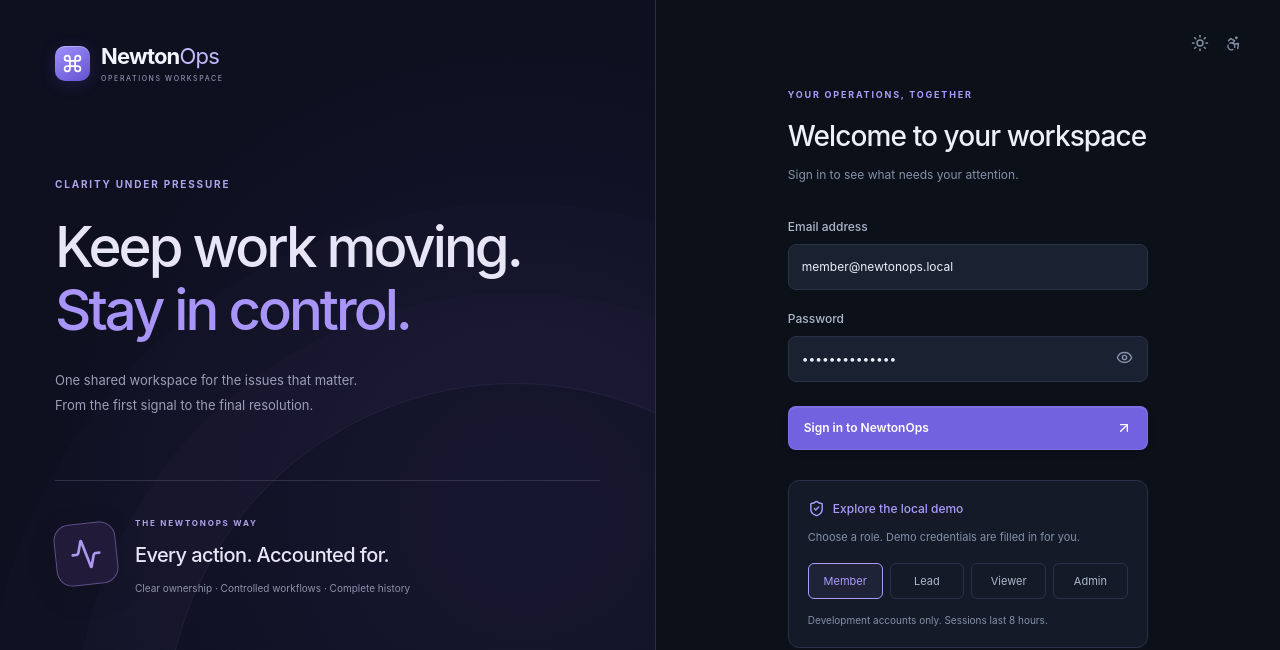
connected workspace › shows a conflict and reconciles only when refresh is requested
The width and height of the screenshot is (1280, 650).
Click the button "Sign in to NewtonOps".
click(866, 427)  # box [788,406,1148,450]
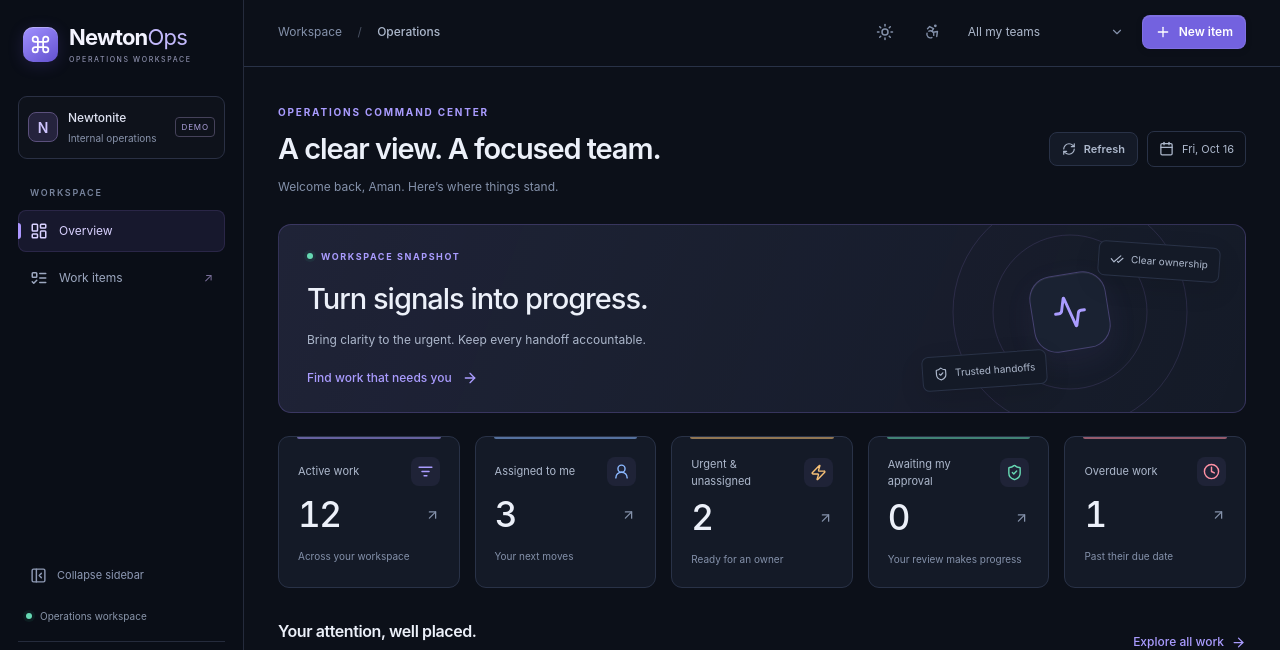
Now the heading "A clear view. A focused team." is shown, box [278,131,660,167]
Click the link "Work items ↗".
click(122, 278)  # box [30,269,213,287]
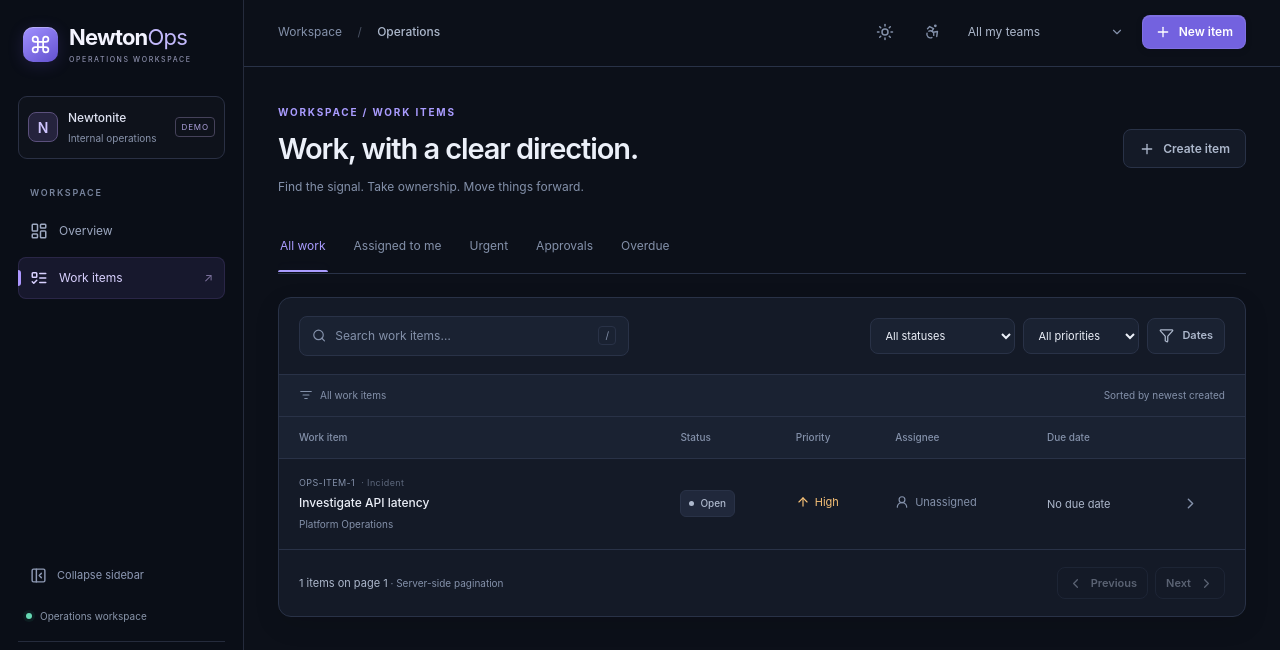
Now the table is shown, box [279,417,1245,550]
Click the link named "Open Investigate API latency".
click(1191, 504)  # box [1182,495,1199,512]
(page scrolled)
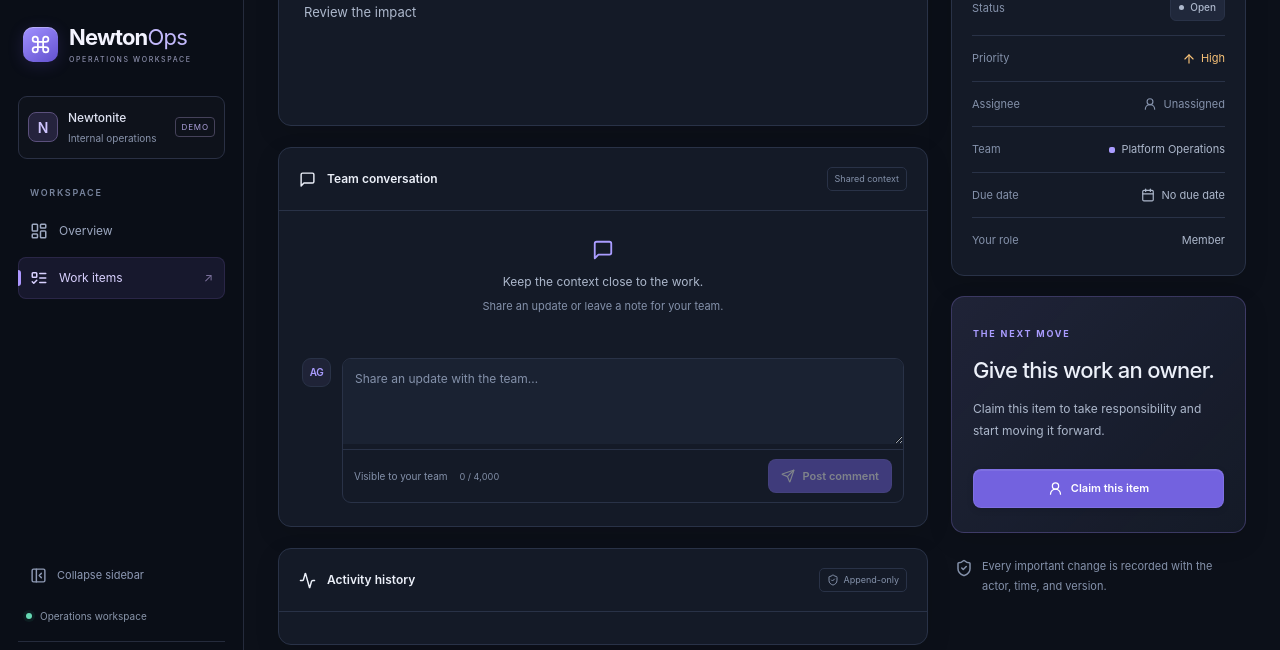
Now the button "Claim this item" is shown
Click the button "Claim this item".
click(1098, 488)  # box [973,469,1224,508]
(page scrolled)
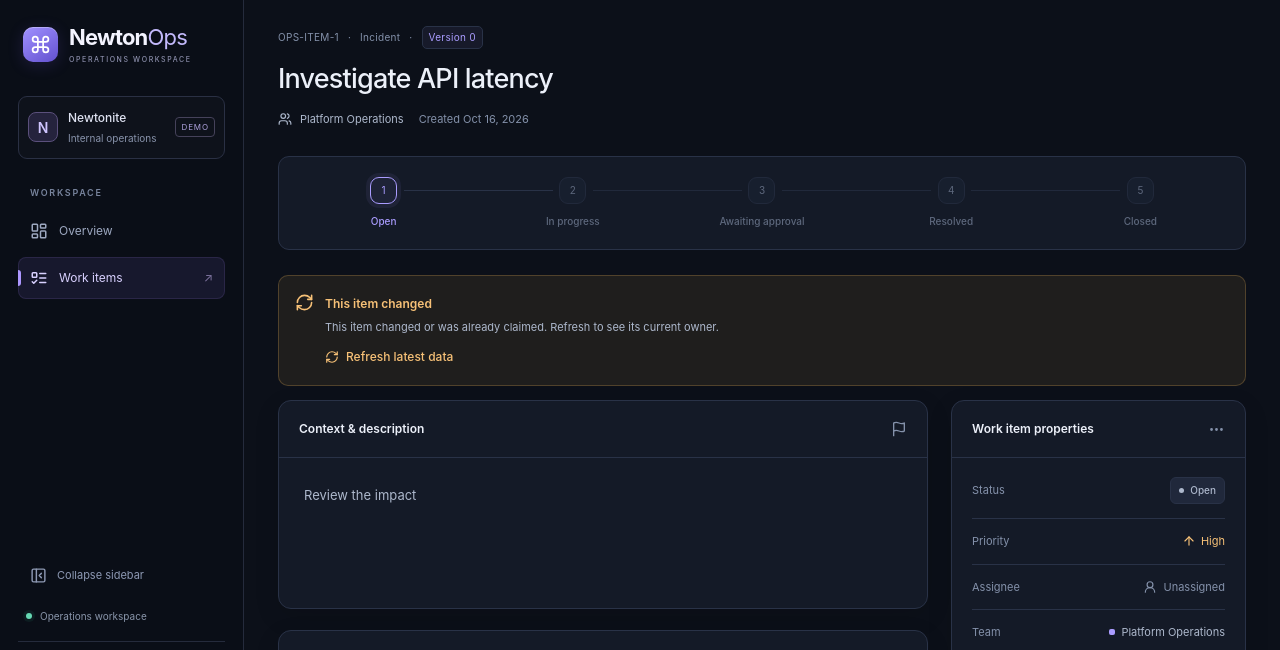
Now the message shows "This item changed", box [325,296,432,311]
Click the button "Refresh latest data".
click(389, 357)  # box [325,348,453,366]
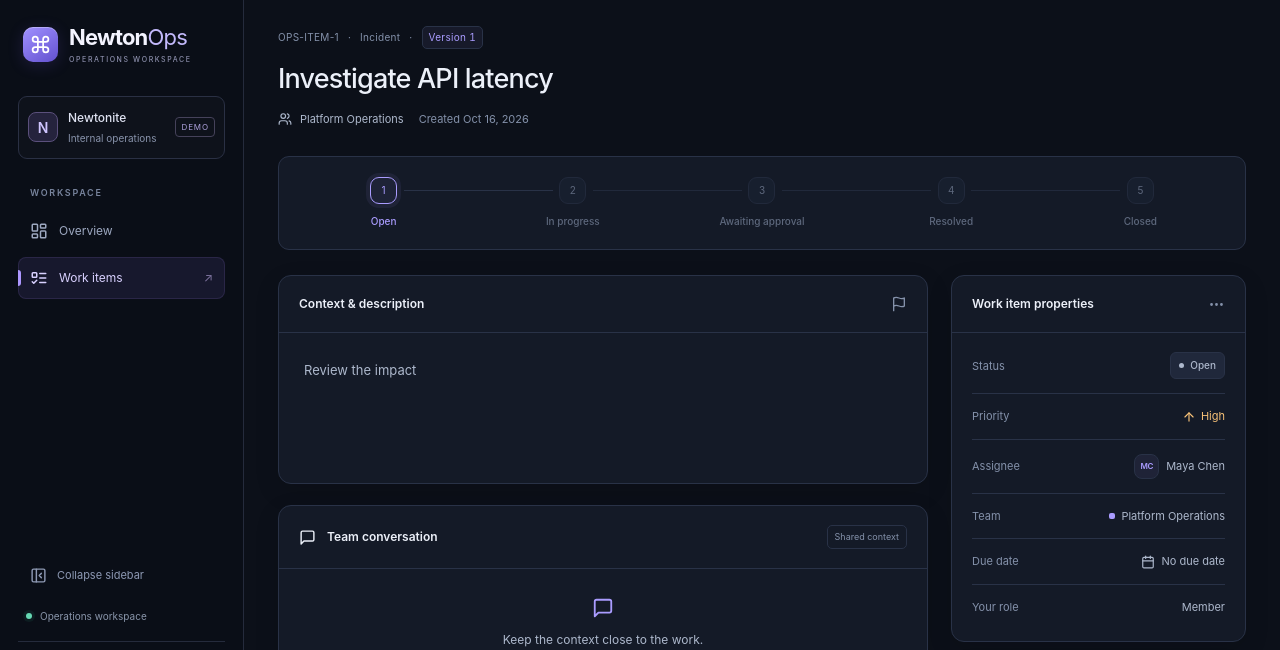
Now the text "Maya Chen" is shown, box [1166,459,1225,473]
